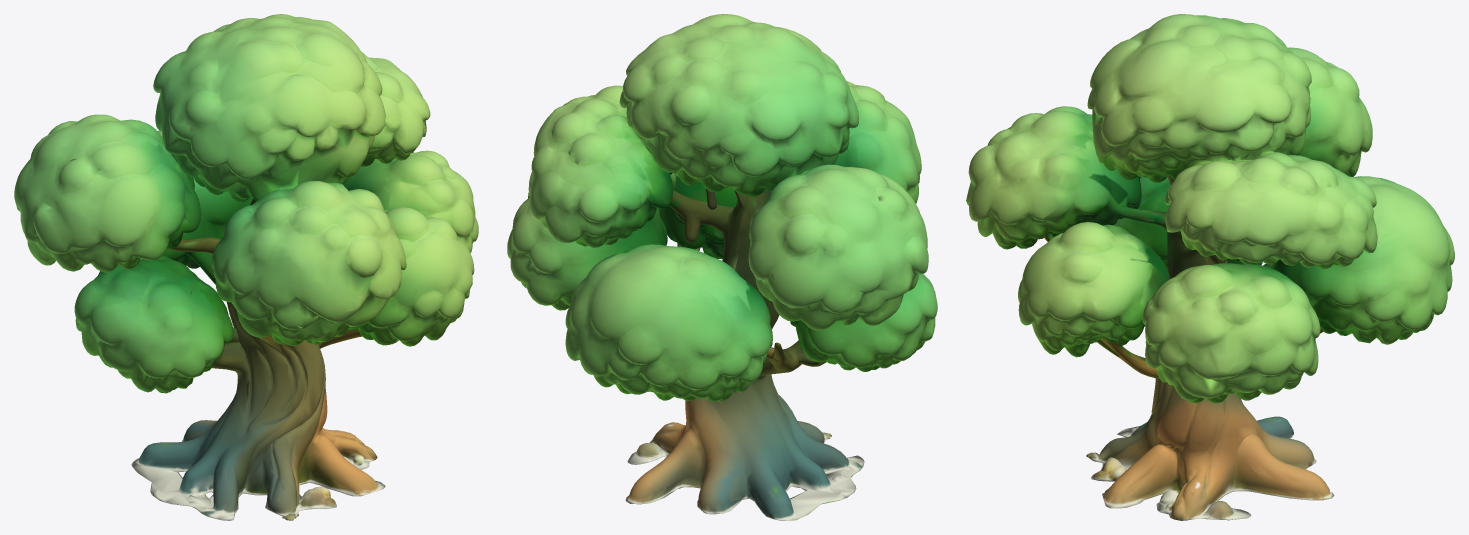
File: big-tree-optimized-BgUTfVjy.glb
The picture shows the model from 3 angles, left to right: view 1: azimuth 30°, elevation 25°; view 2: azimuth 150°, elevation 25°; view 3: azimuth 270°, elevation 25°; orthographic projection. The views are drawn at different scales.
Parts seen in each view (by area): view 1: node_0; view 2: node_0; view 3: node_0.
Part boxes in pixels (x1=…): node_0: x1=14, y1=14, x2=478, y2=520; node_0: x1=507, y1=14, x2=937, y2=520; node_0: x1=966, y1=14, x2=1454, y2=520.
Size of the model in its own units: 1.04 by 1.05 by 1.04.
Materials: 1 (1 with a texture image).
